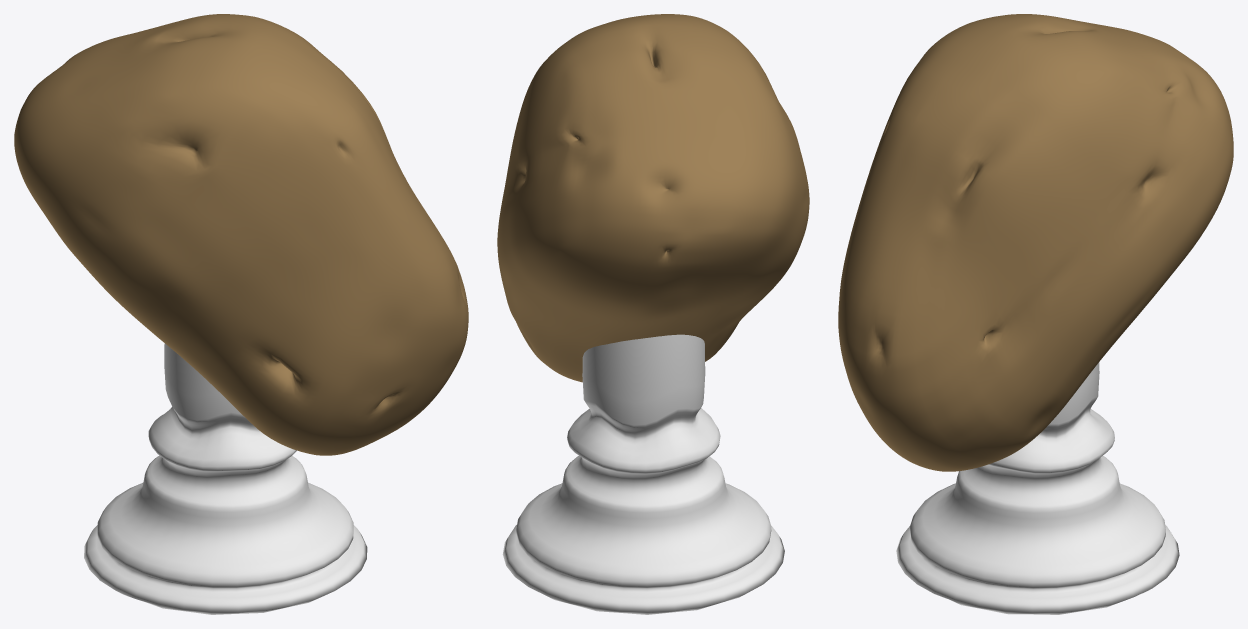
File: JAGAIMO.fbx
The picture shows the model from 3 angles, left to right: view 1: azimuth 30°, elevation 25°; view 2: azimuth 150°, elevation 25°; view 3: azimuth 270°, elevation 25°; orthographic projection.
Parts seen in each view (by area): view 1: pCube2; view 2: pCube2; view 3: pCube2.
Boxes of the visible parts, bbox=[...] form: pCube2: bbox=[14, 14, 468, 614]; pCube2: bbox=[497, 14, 809, 614]; pCube2: bbox=[838, 14, 1233, 614].
Bounding box in the file's own units: 8.98 × 13.58 × 9.08.
